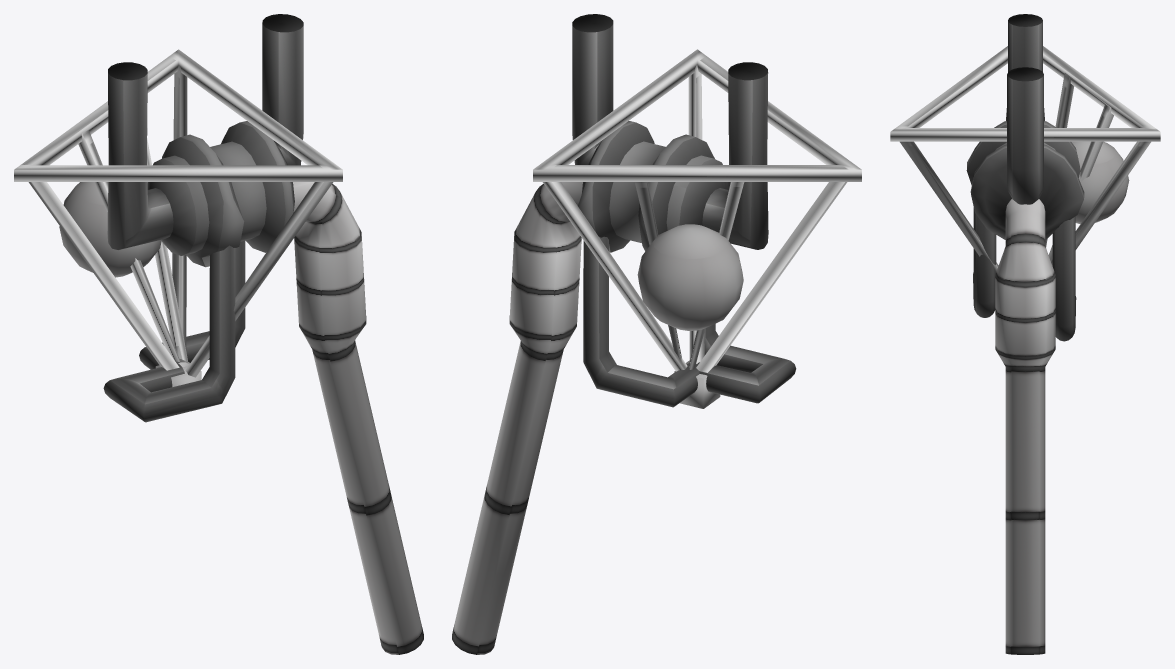
The model's file is LR_79_Structure.obj.
3 views of the same model, side by side, from view 1: azimuth 30°, elevation 25°; view 2: azimuth 150°, elevation 25°; view 3: azimuth 270°, elevation 25° (orthographic). The views are drawn at different scales.
Parts seen in each view (by area): view 1: Structure; view 2: Structure; view 3: Structure.
Boxes of the visible parts, <box> form: Structure: <box>14,14,423,654</box>; Structure: <box>452,14,861,654</box>; Structure: <box>890,14,1160,654</box>.
Bounding box in the file's own units: 2.09 × 3.2 × 1.46.
1 material, 1 textured.
